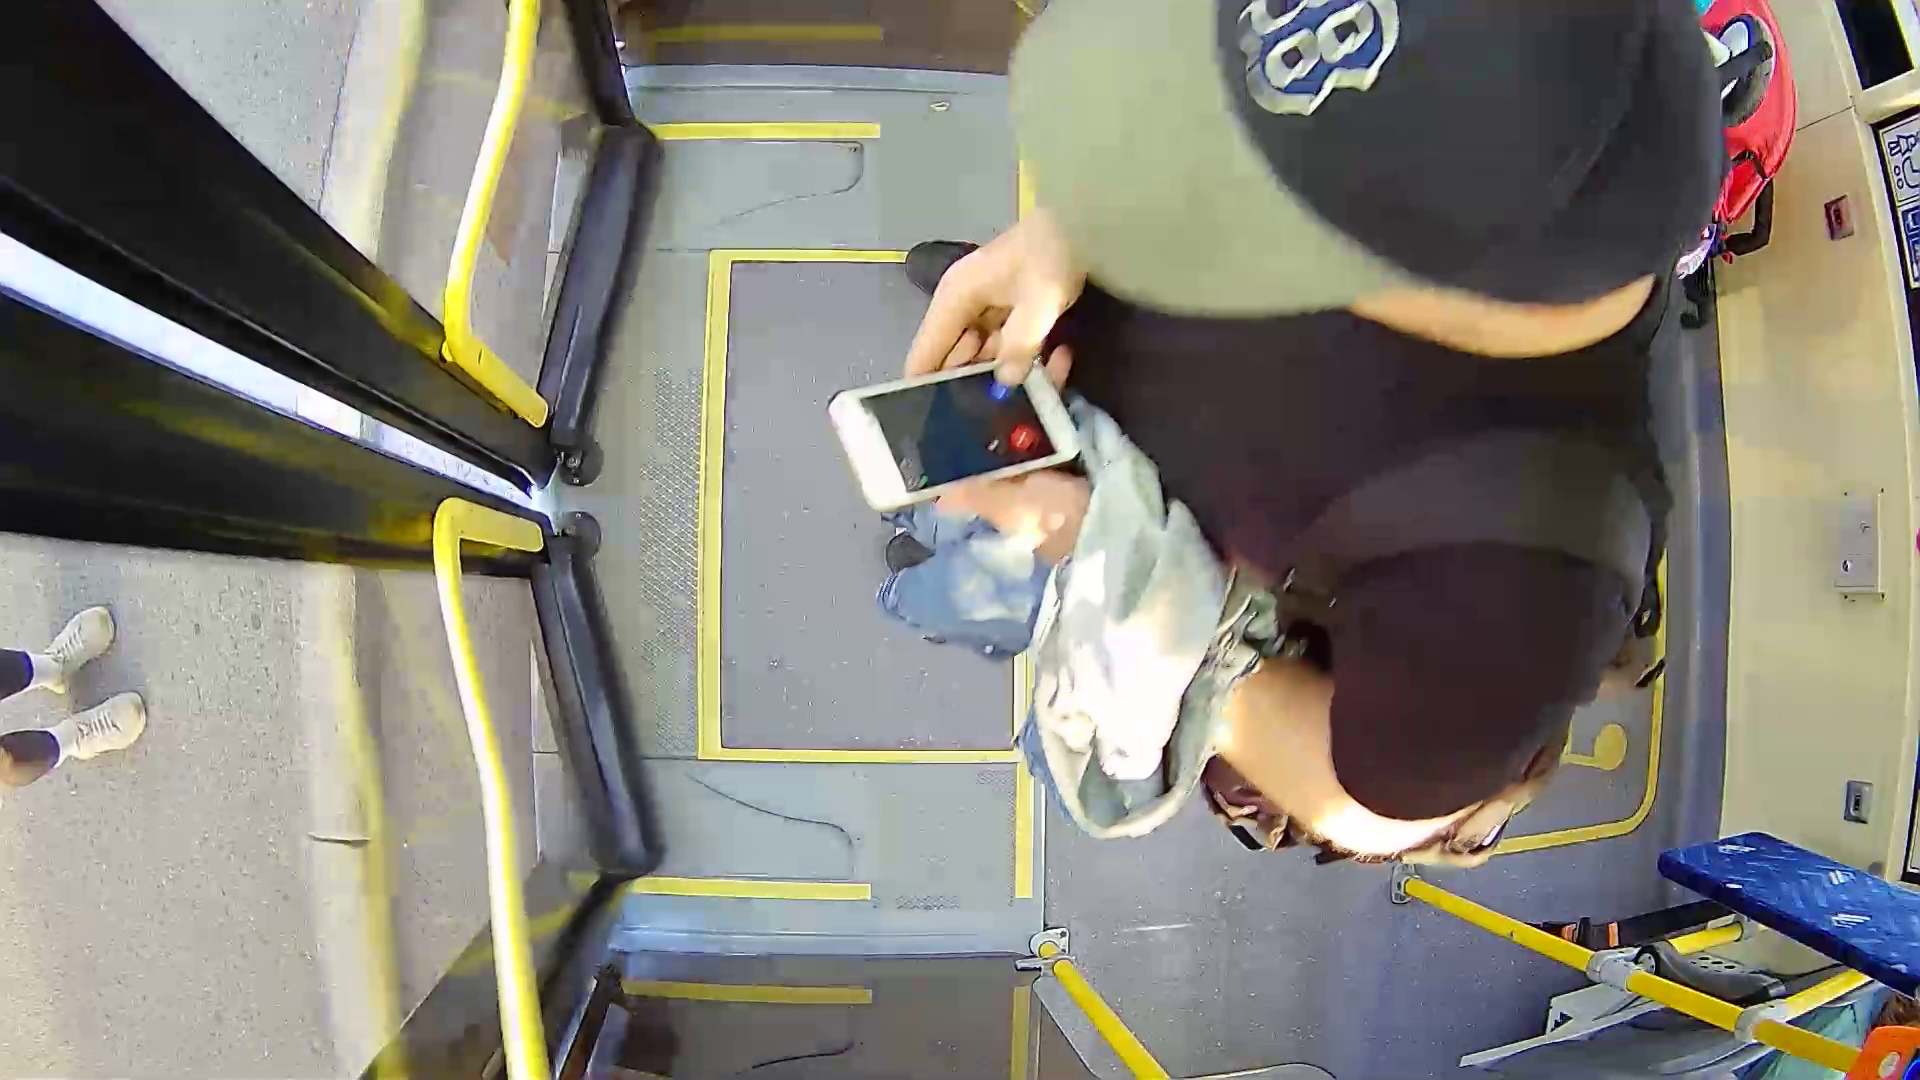person: (891, 1, 1784, 903)
